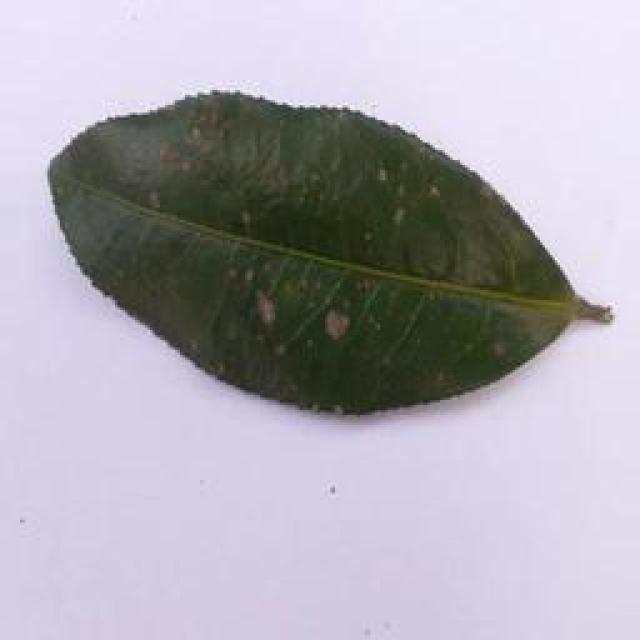Algal Leaf Spot: (37, 85, 615, 418)
